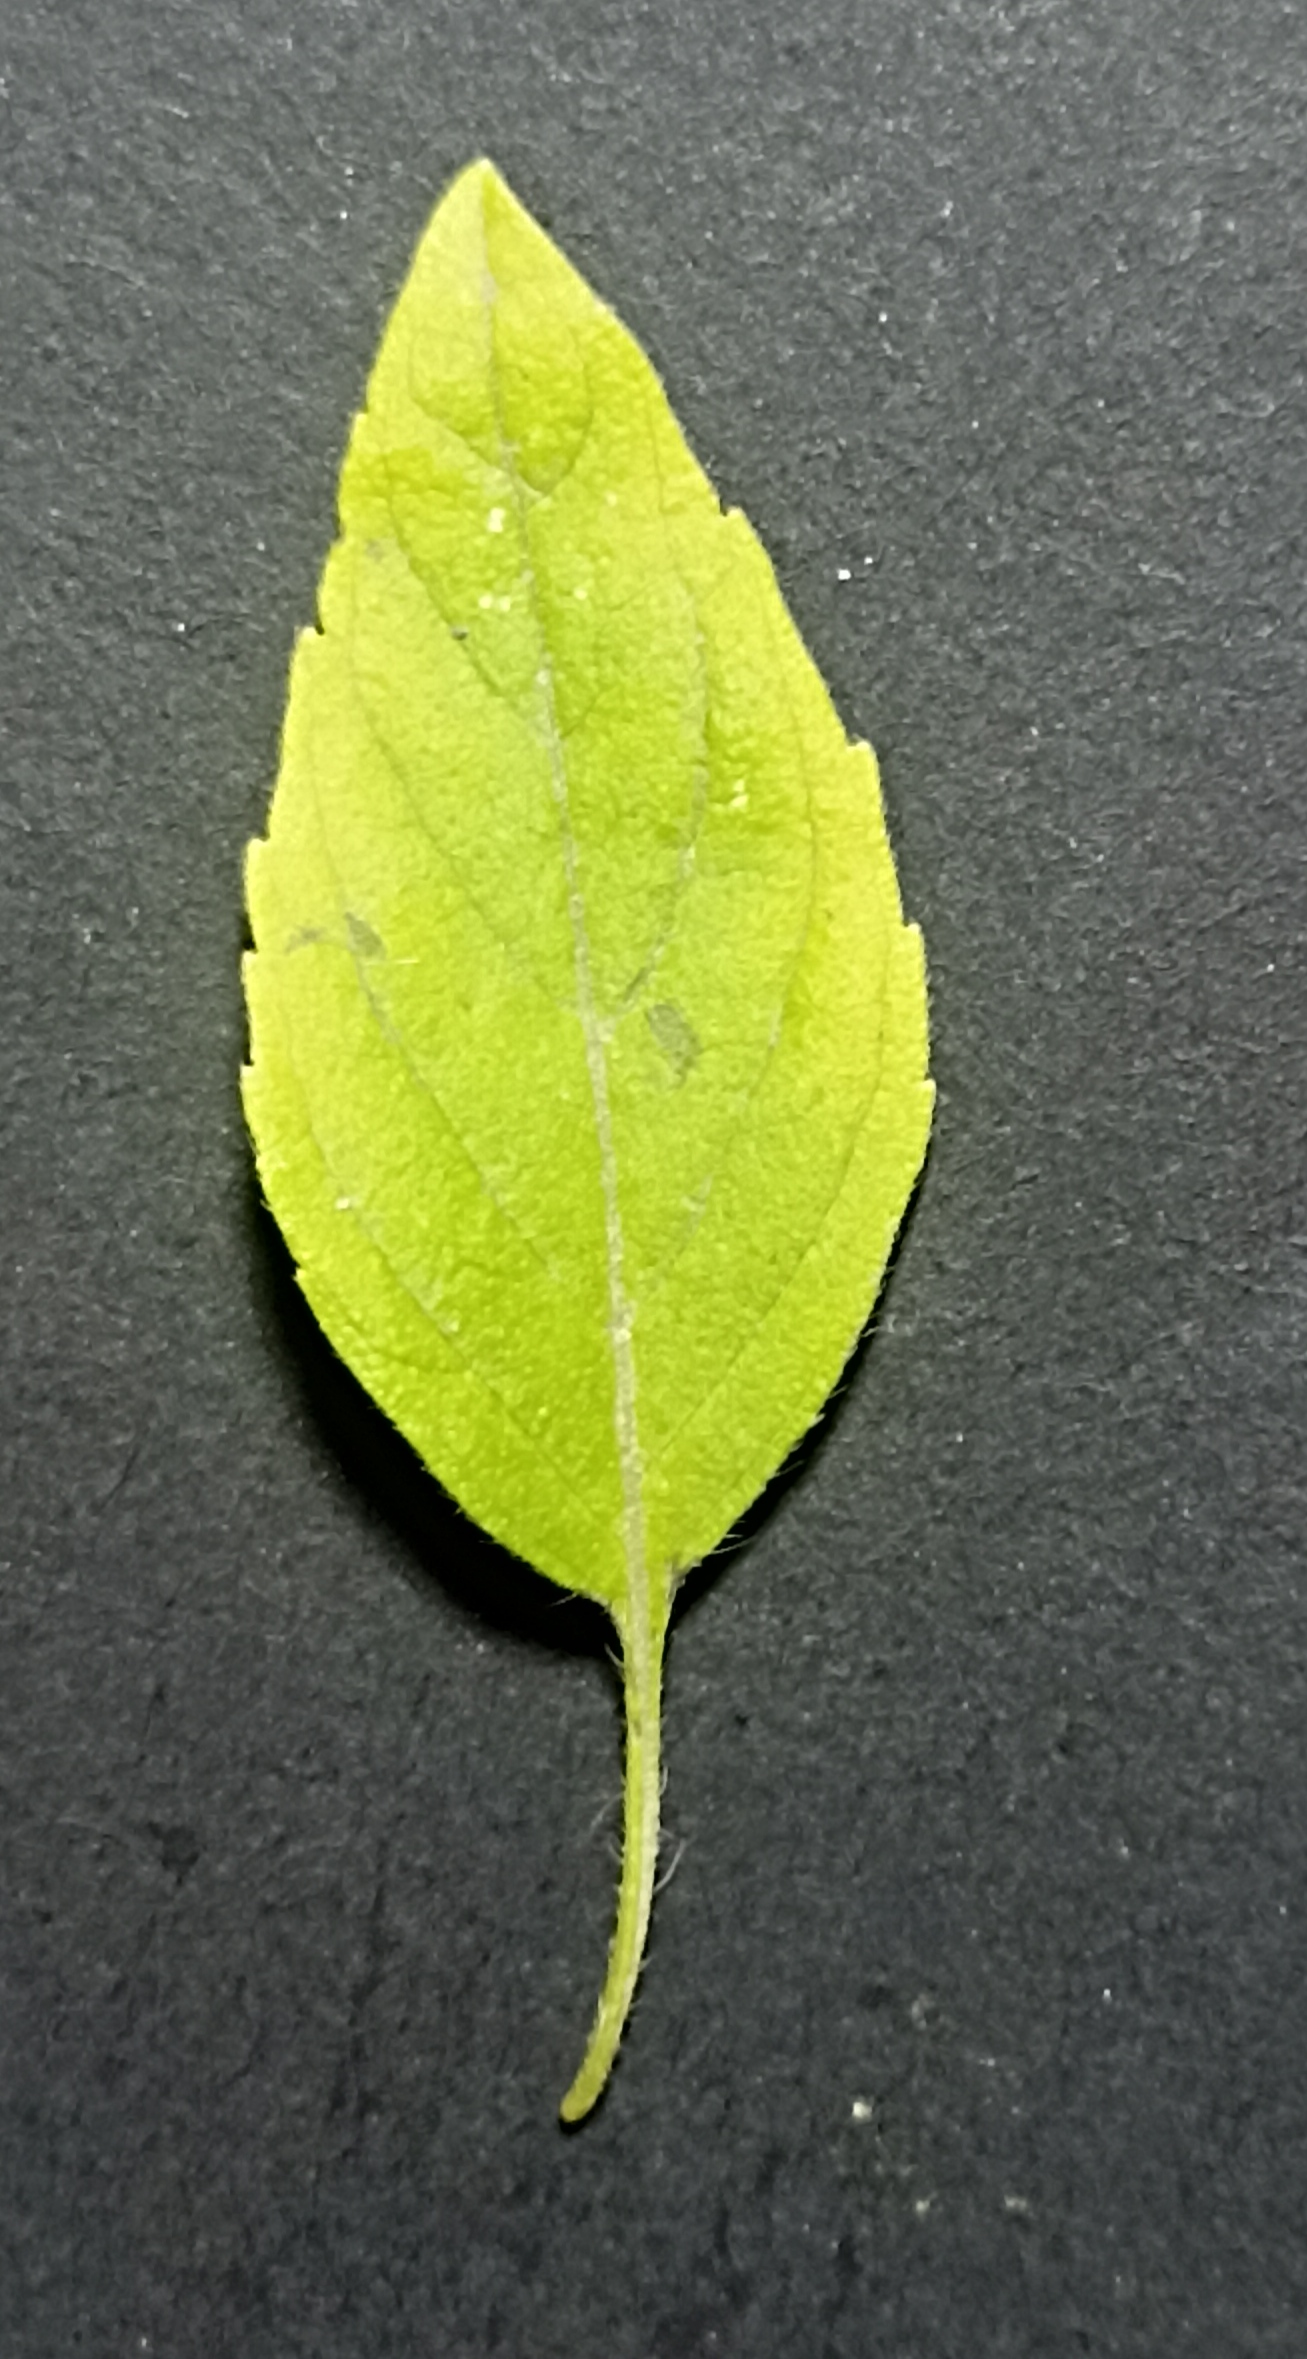Healthy: (212, 153, 942, 1633)
